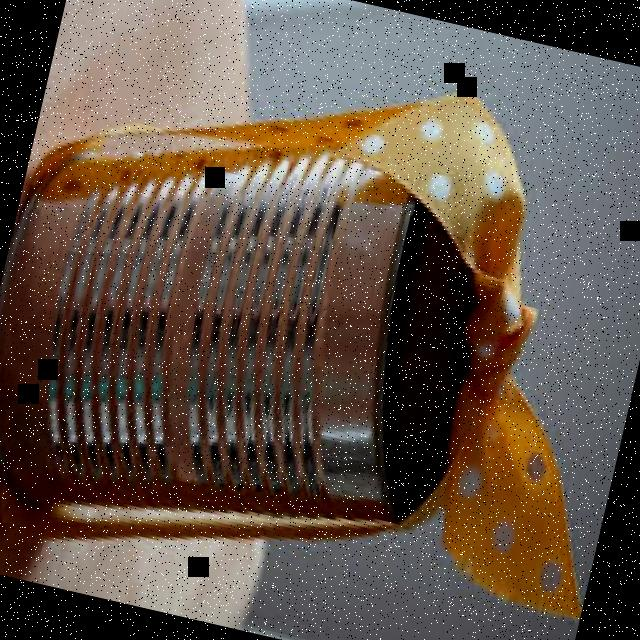can: (0, 35, 545, 603)
